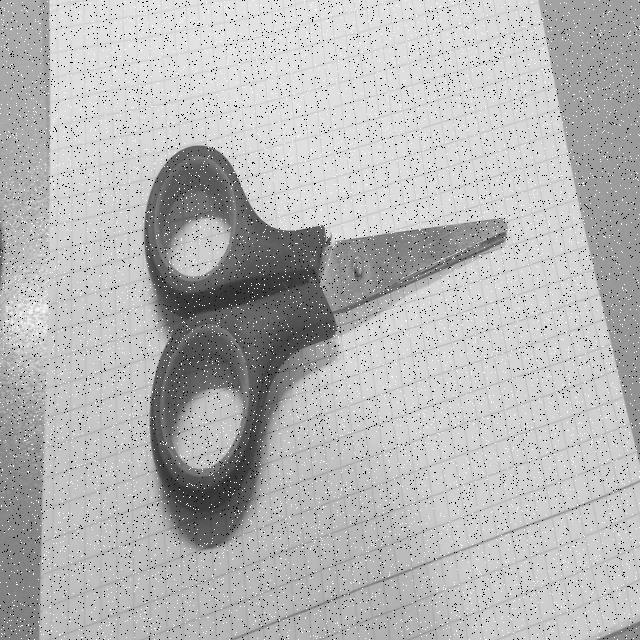scissors: (142, 134, 512, 524)
